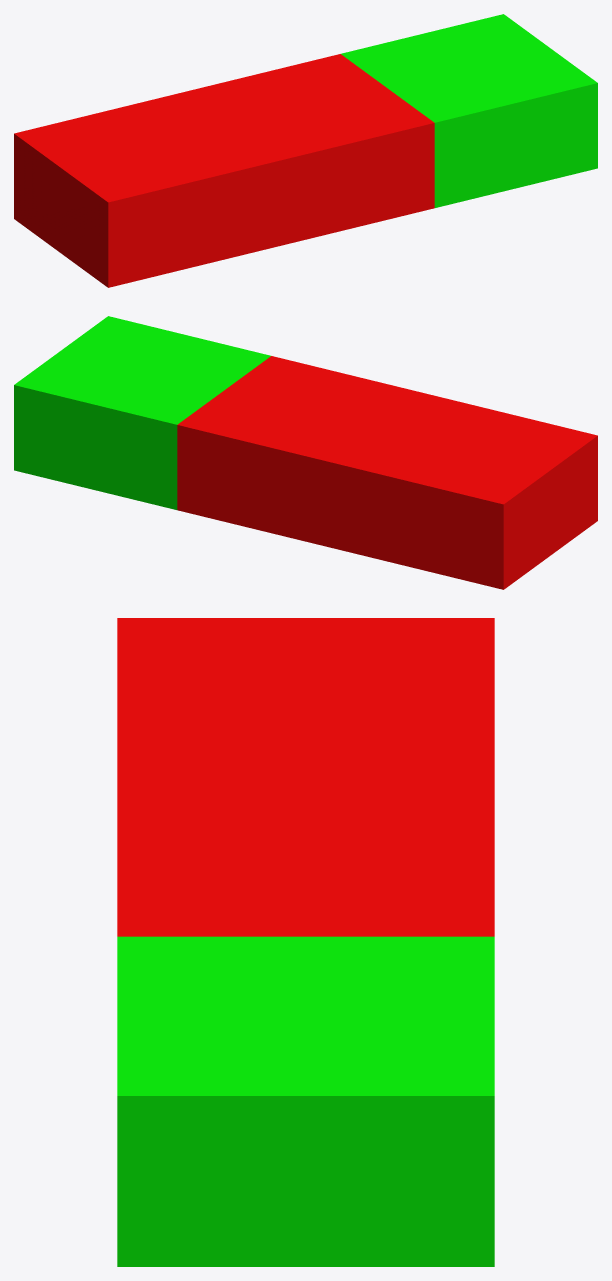
File: serial_test_example_fn_std-solid-appearance2_output.glb
3 views of the same model, one above another, from view 1: azimuth 30°, elevation 25°; view 2: azimuth 150°, elevation 25°; view 3: azimuth 270°, elevation 25° (orthographic). The views are drawn at different scales.
Size of the model in its own units: 0.06 by 0.01 by 0.02.
